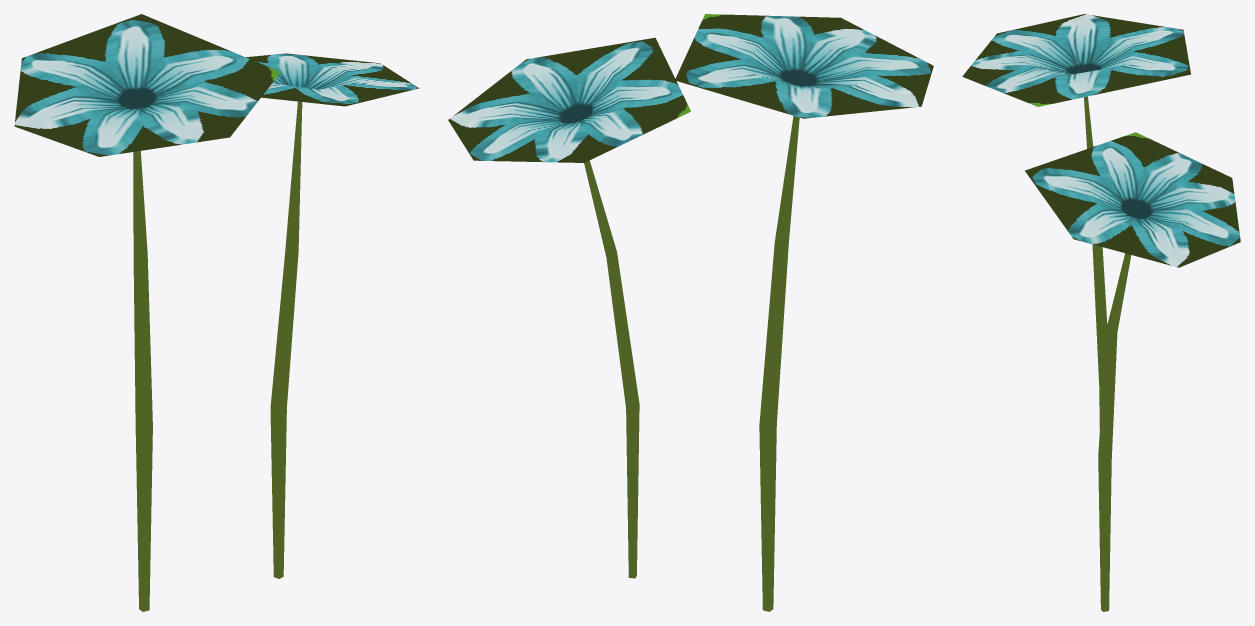
The model's file is flowers_07.fbx.
3 views of the same model, side by side, from view 1: azimuth 30°, elevation 25°; view 2: azimuth 150°, elevation 25°; view 3: azimuth 270°, elevation 25° (orthographic). The views are drawn at different scales.
Parts seen in each view (by area): view 1: flowers_07; view 2: flowers_07; view 3: flowers_07.
Part boxes in pixels (x1=…): flowers_07: x1=14, y1=14, x2=419, y2=611; flowers_07: x1=448, y1=14, x2=933, y2=611; flowers_07: x1=962, y1=14, x2=1240, y2=611.
Bounding box in the file's own units: 47.73 × 59.95 × 30.51.
